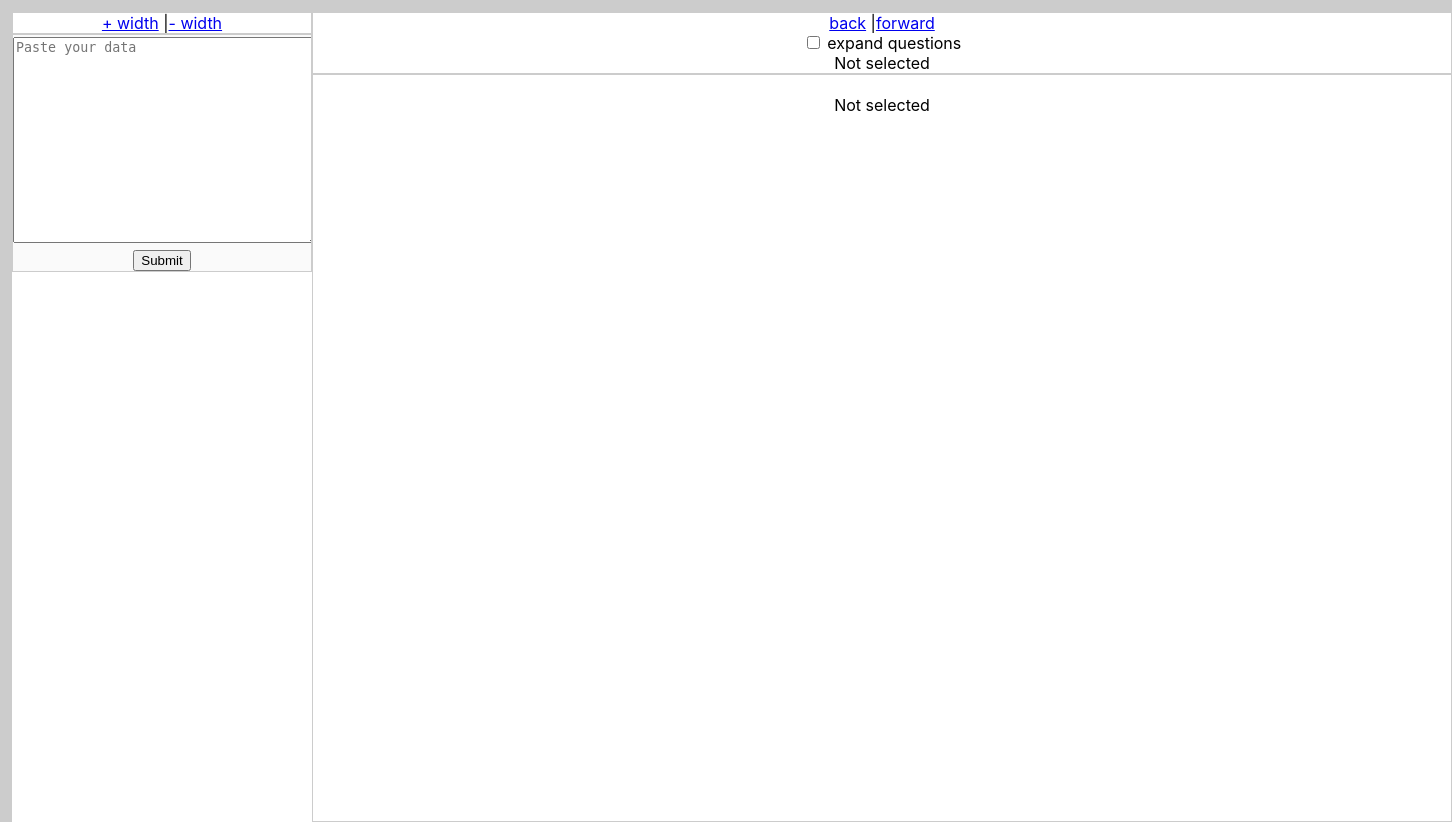
Test: App › window.externalText does not override new text
Type "# default data" into the text box with test id "textarea" at (166,140), box [13,37,319,243]
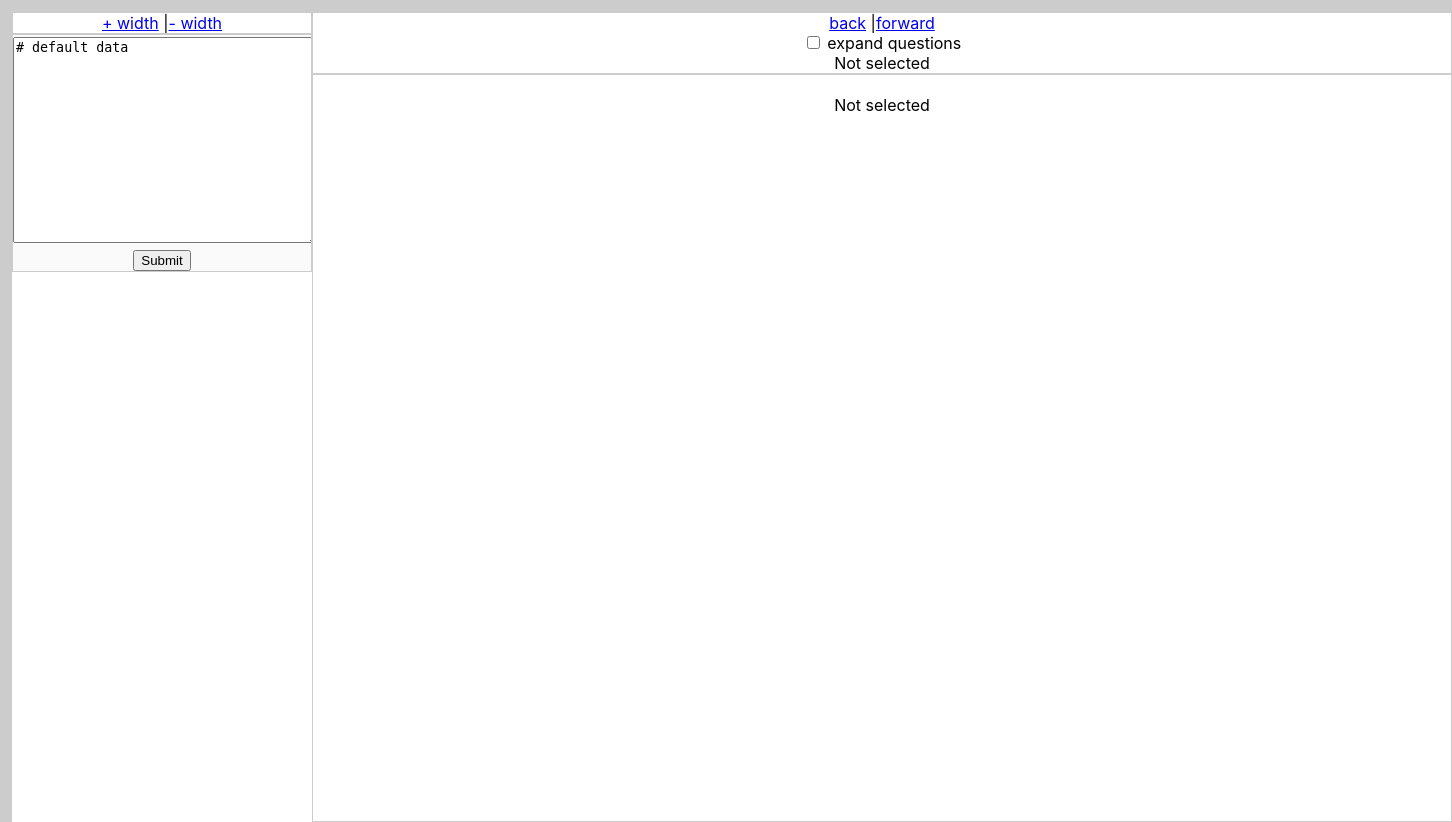
Click the button with test id "submit" at (162,260), box [133,250,191,271]
Wait 1500 ms
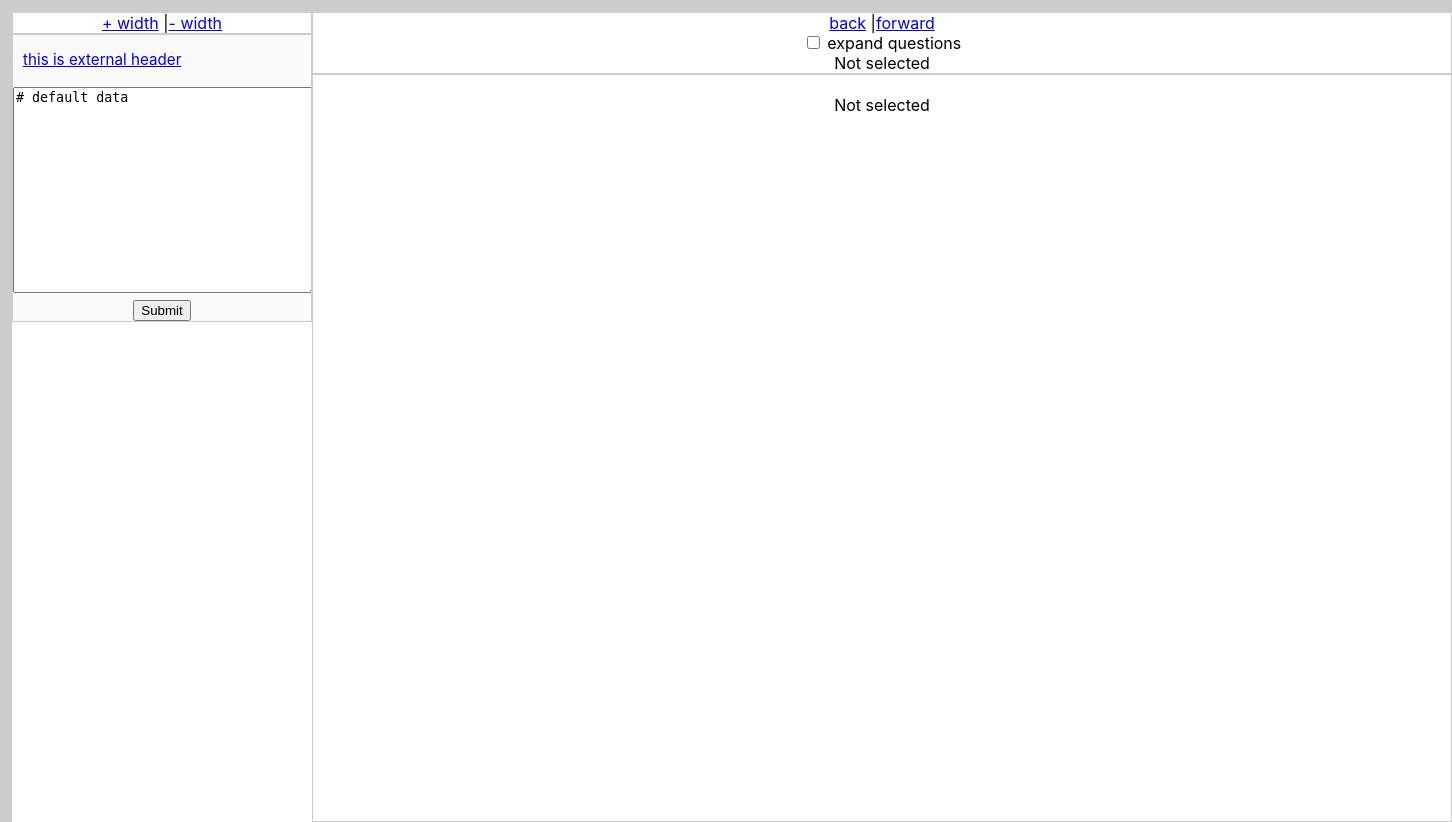
Replace the text in the text box with test id "textarea" with "         # blah content                 " at (166,190), box [13,87,319,293]
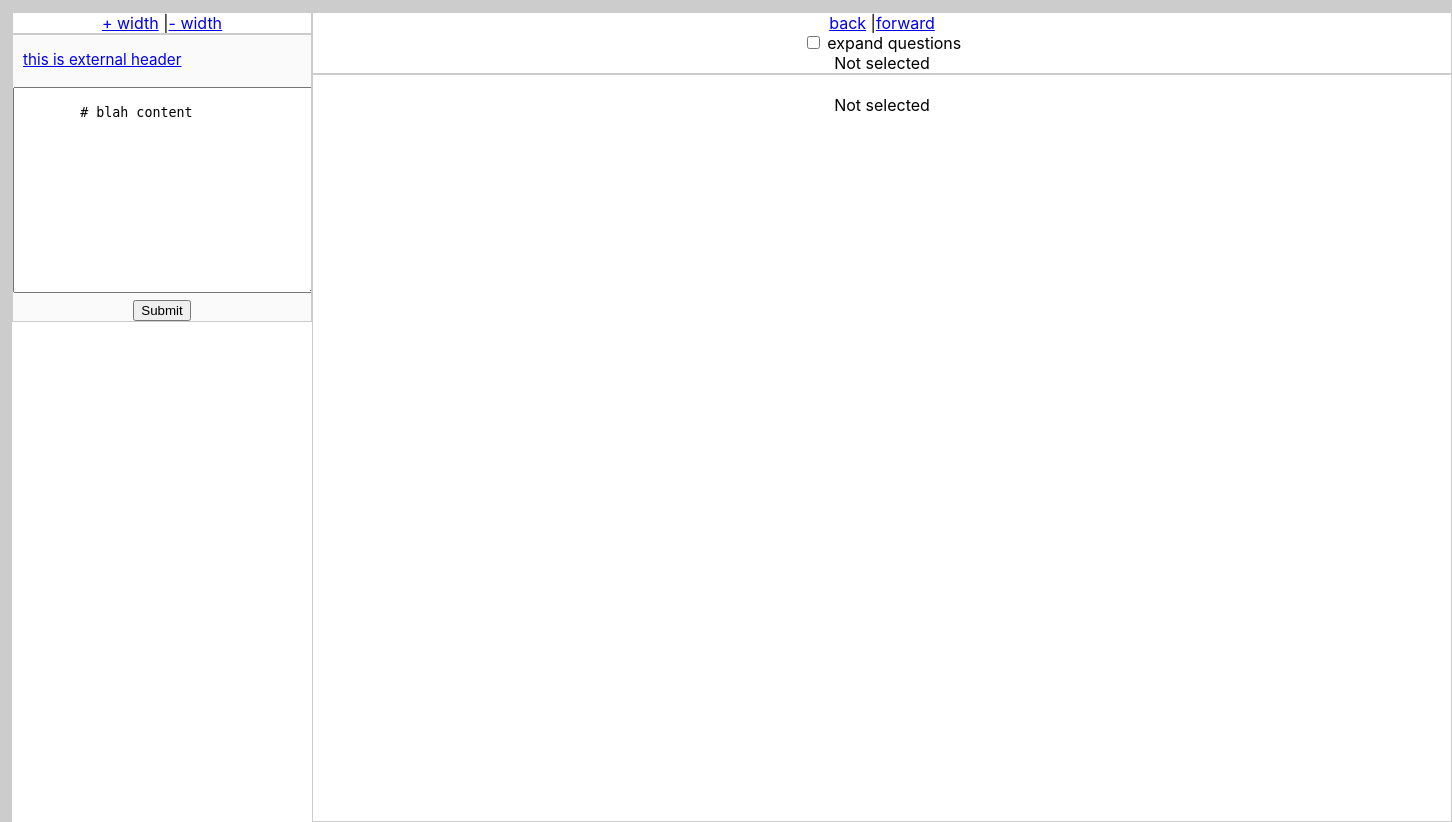
Click the button with test id "submit" at (162,311), box [133,300,191,321]
Wait 1500 ms
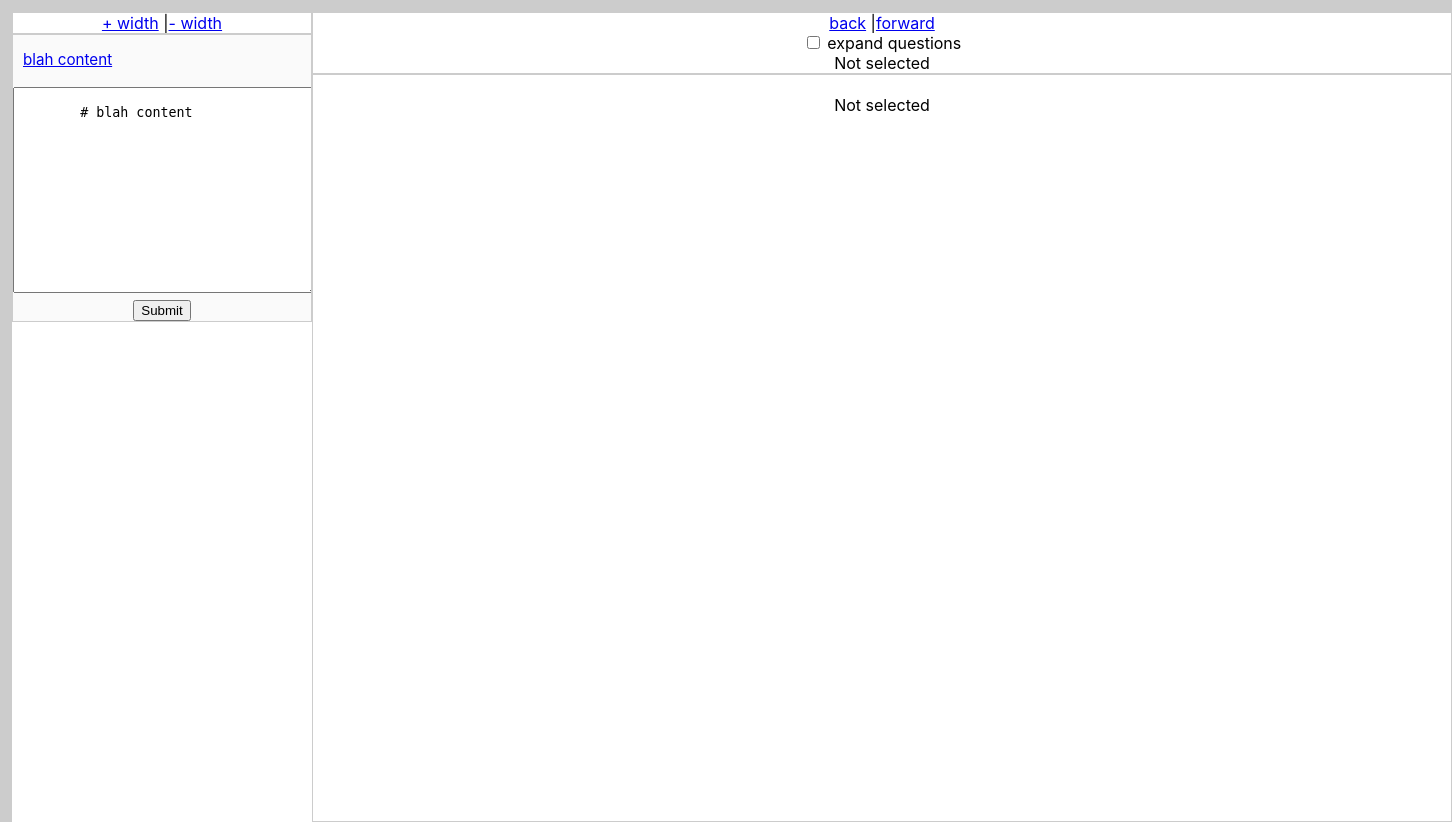
Check: the link "blah content" is shown, box [23,50,112,69]
